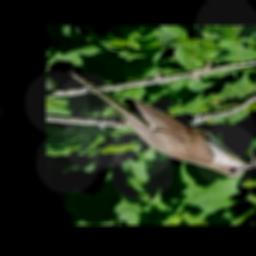Cuckoo: (67, 67, 256, 177)
